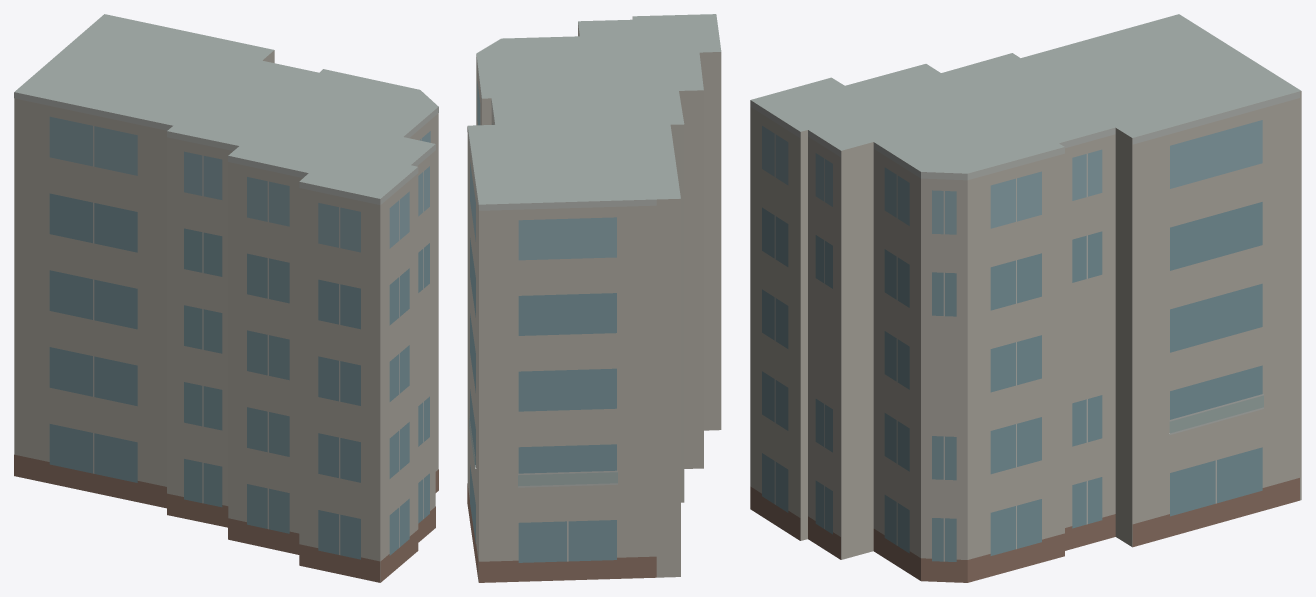
The model's file is survey-upis-32651346.glb.
3 renders of one model, left to right at view 1: azimuth 30°, elevation 25°; view 2: azimuth 150°, elevation 25°; view 3: azimuth 270°, elevation 25°, orthographic. The views are drawn at different scales.
Visible parts, largest first — view 1: survey-upis-32651346.tmp; view 2: survey-upis-32651346.tmp; view 3: survey-upis-32651346.tmp.
Boxes of the visible parts, x1,y1,x2,y2 form: survey-upis-32651346.tmp: [14, 14, 438, 582]; survey-upis-32651346.tmp: [467, 14, 721, 582]; survey-upis-32651346.tmp: [750, 14, 1301, 582].
Size of the model in its own units: 12.56 by 15 by 18.32.
